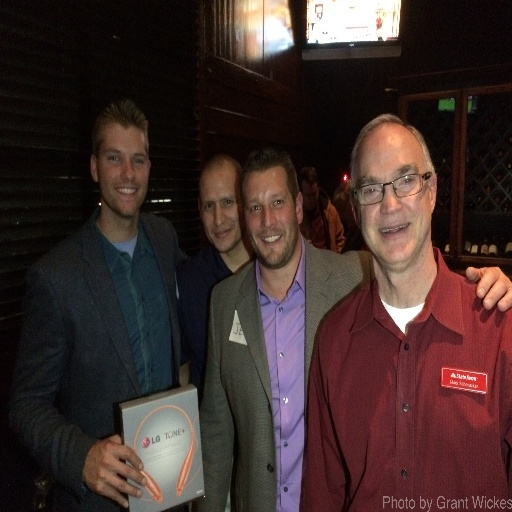hand: (85, 431, 147, 511), (459, 258, 508, 307)
